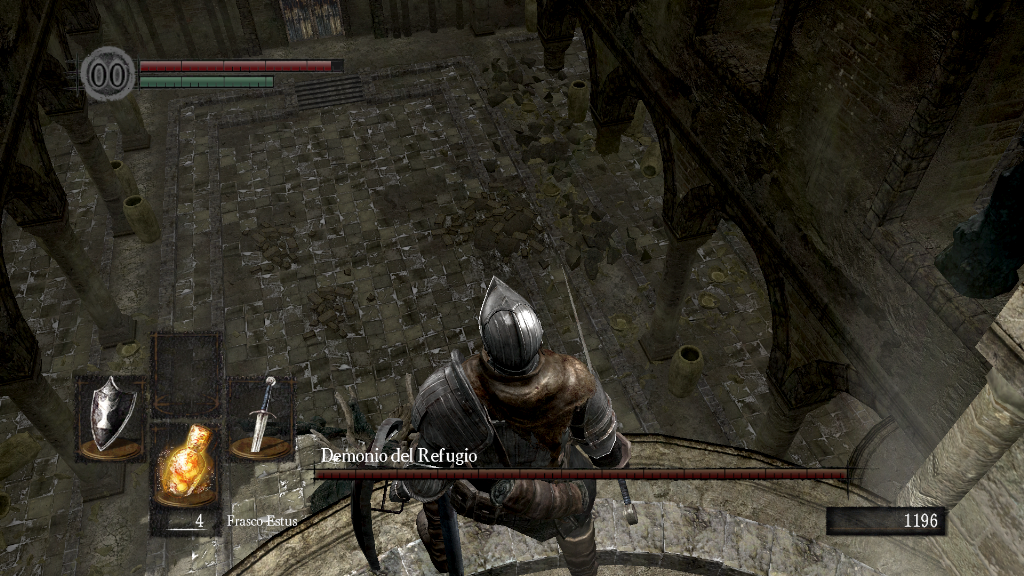bossHP: (314, 469, 847, 479)
health: (138, 58, 343, 71)
humanity: (80, 45, 136, 102)
player: (350, 264, 643, 576)
souls: (825, 506, 945, 536)
stamina: (138, 74, 274, 88)
